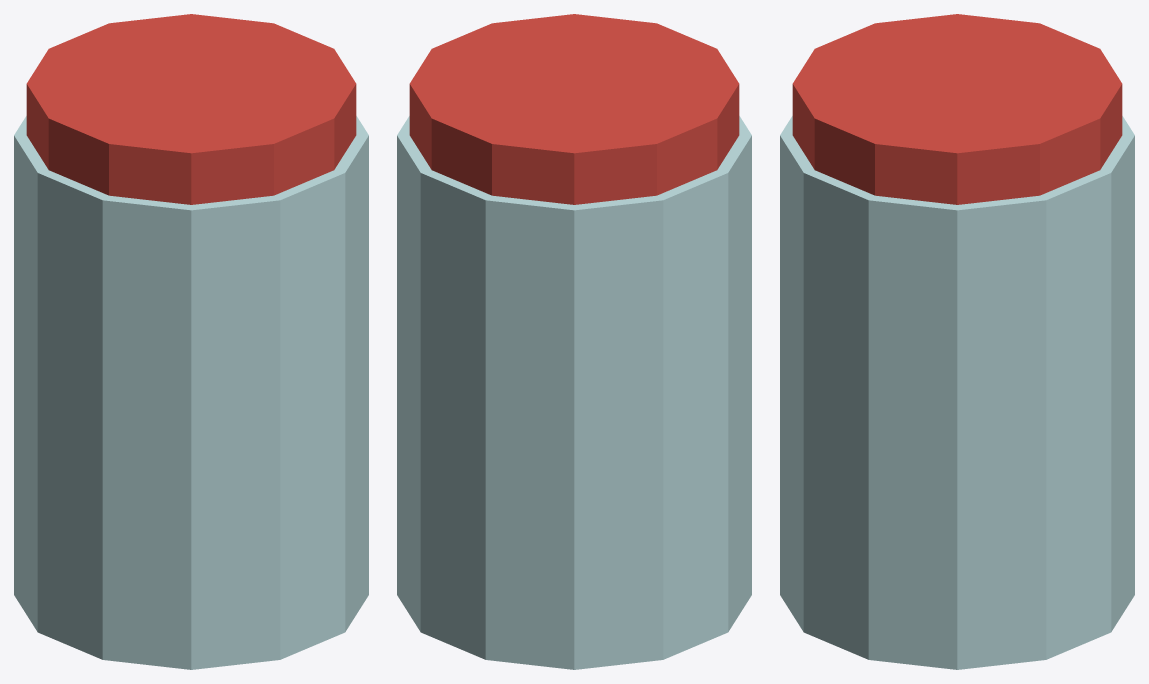
File: sm_product_glass_jar.glb
3 views of the same model, side by side, from view 1: azimuth 30°, elevation 25°; view 2: azimuth 150°, elevation 25°; view 3: azimuth 270°, elevation 25° (orthographic).
Visible parts, largest first — view 1: glass_jar_0, glass_jar_1; view 2: glass_jar_0, glass_jar_1; view 3: glass_jar_0, glass_jar_1.
Boxes of the visible parts, x1,y1,x2,y2 form: glass_jar_0: (14,116,368,669); glass_jar_1: (26,14,356,204); glass_jar_0: (397,116,751,669); glass_jar_1: (409,14,739,204); glass_jar_0: (780,116,1134,669); glass_jar_1: (792,14,1122,204).
Size of what is drawn, in the model's own units: 0.14 by 0.2225 by 0.14.
